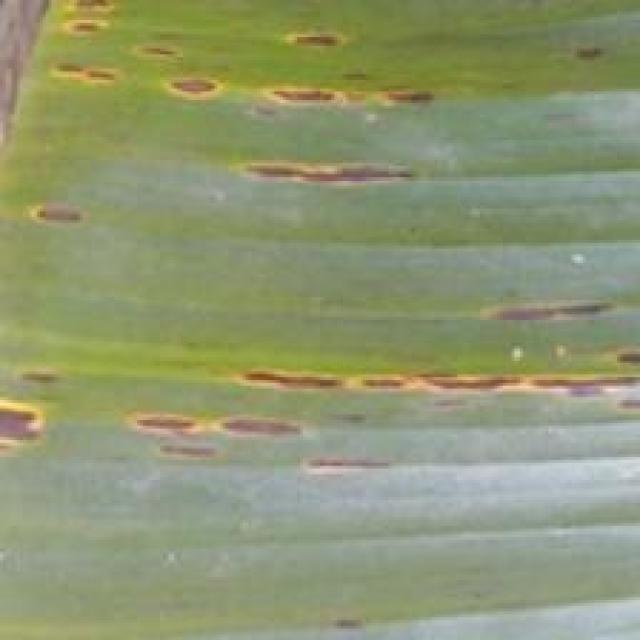Early_leaf_spot: (208, 291, 640, 431), (119, 8, 446, 124), (117, 389, 395, 504), (228, 142, 446, 204), (0, 349, 66, 484), (43, 49, 150, 105), (18, 182, 101, 240), (24, 0, 131, 43), (568, 18, 622, 88), (322, 600, 386, 640)
